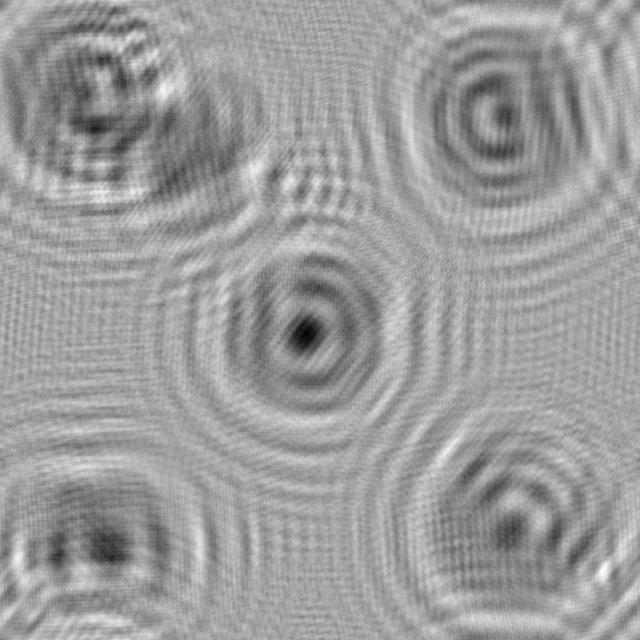D: (367, 0, 640, 267)
F: (0, 432, 221, 640)
G: (0, 0, 191, 211)
P: (180, 193, 451, 476)
U: (387, 368, 640, 640)
Y: (79, 24, 320, 284)
